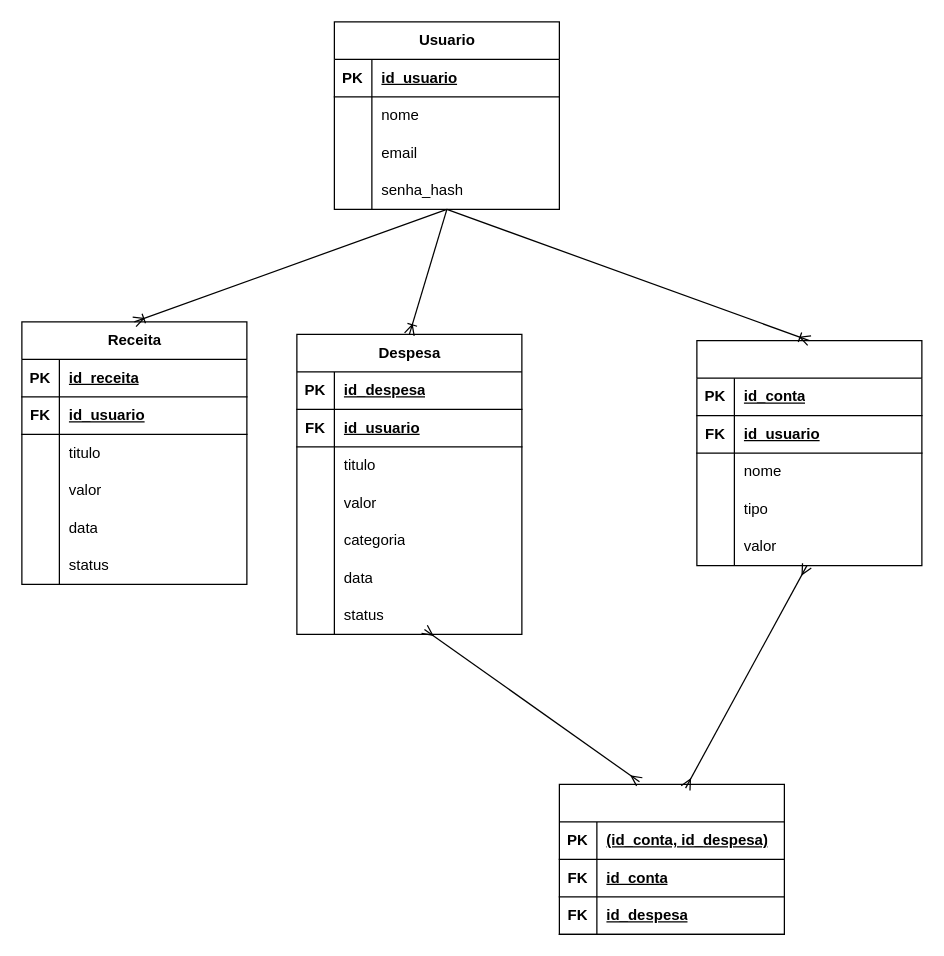
This 944x956 diagram has some shape labels left out. The shapes that lost their labels are listed below. From the top down, each one's box as (x1, y1, x2, y2) in pixels, then its label:
(696, 339, 922, 566): Contas
(558, 783, 784, 934): Despesa_Conta
